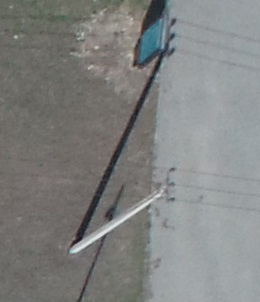opora: (68, 163, 179, 254)
